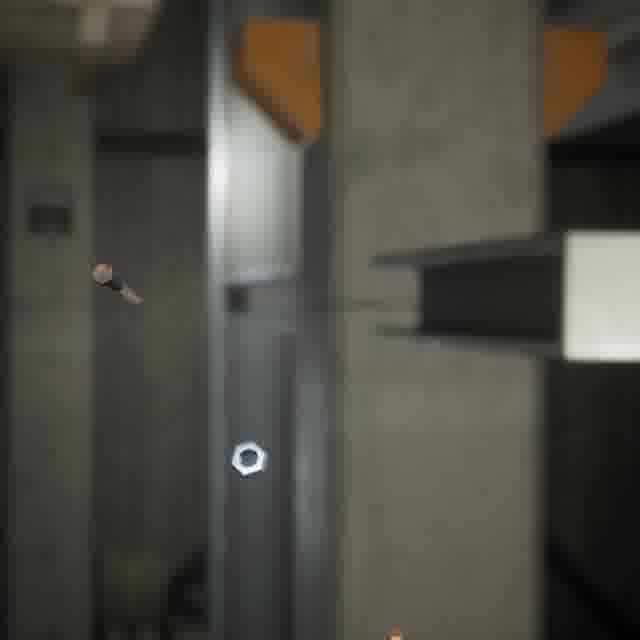bolt: (87, 257, 145, 309)
nut: (226, 436, 272, 483)
